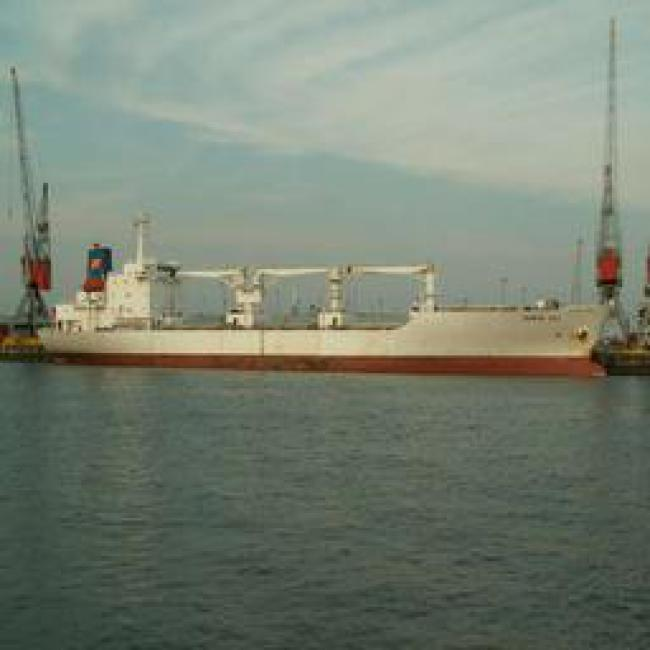Ship: (41, 261, 631, 395)
